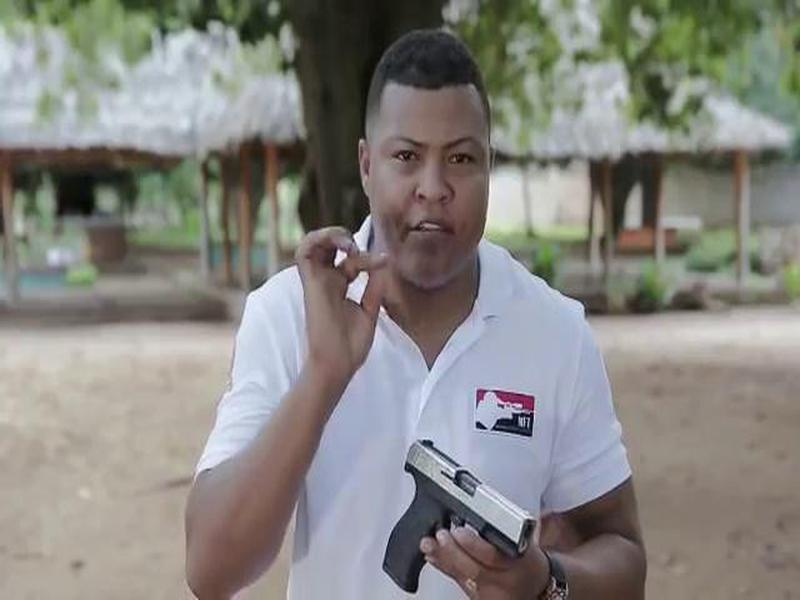Pistola: (372, 432, 543, 600)
